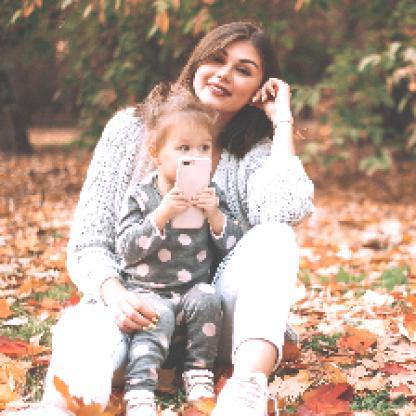child: (114, 83, 246, 416)
